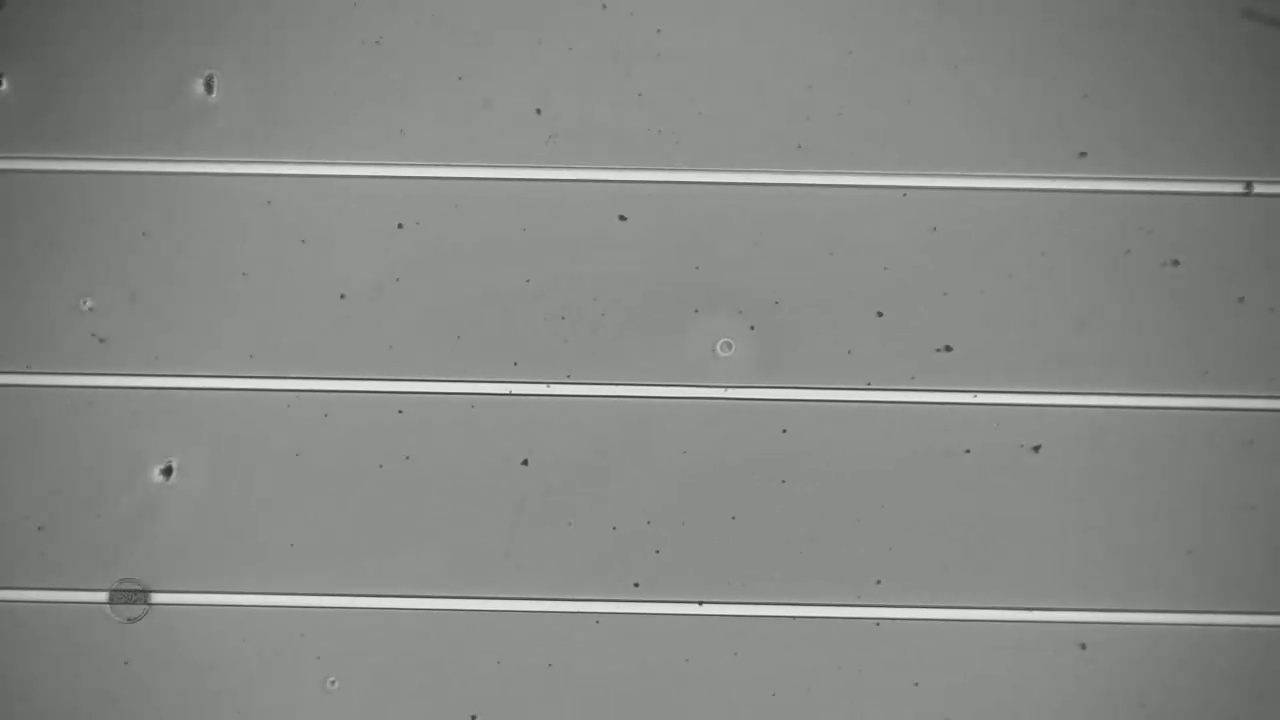gray_line: (90, 576, 173, 616)
stains_enbedded: (1234, 167, 1268, 204)
